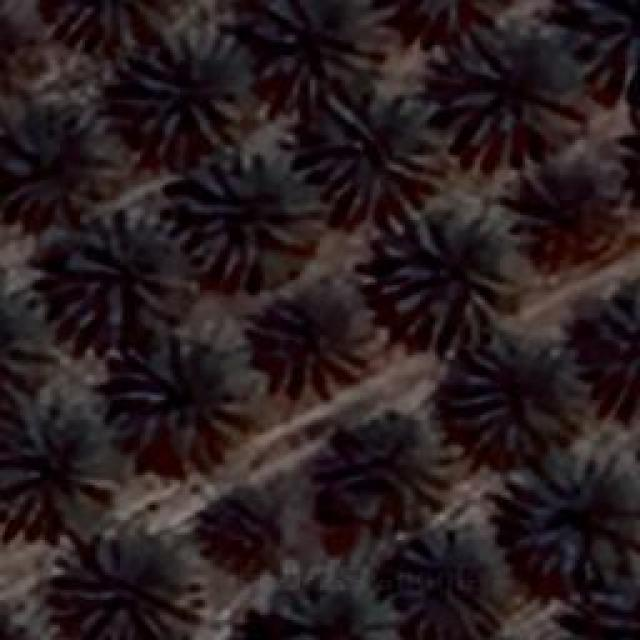PalmTree: (67, 45, 605, 111), (172, 148, 322, 282), (438, 22, 582, 160), (375, 210, 510, 350), (117, 328, 255, 462), (445, 332, 585, 450), (45, 212, 175, 330), (0, 412, 118, 538), (510, 450, 622, 580), (130, 22, 250, 142), (318, 412, 436, 526), (68, 538, 202, 638), (260, 0, 385, 102), (312, 90, 420, 200), (3, 100, 116, 205), (386, 536, 499, 629), (516, 164, 616, 266), (26, 111, 67, 348), (260, 580, 388, 640), (252, 304, 350, 382), (190, 490, 285, 560), (45, 0, 166, 41), (600, 287, 638, 415), (383, 0, 513, 34), (0, 0, 37, 106), (579, 579, 640, 640), (0, 604, 48, 640)
